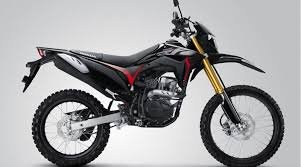motor: (21, 6, 286, 167)
